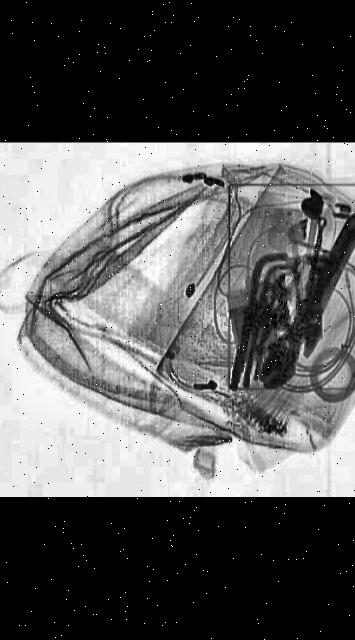Wrench: (241, 211, 355, 394)
